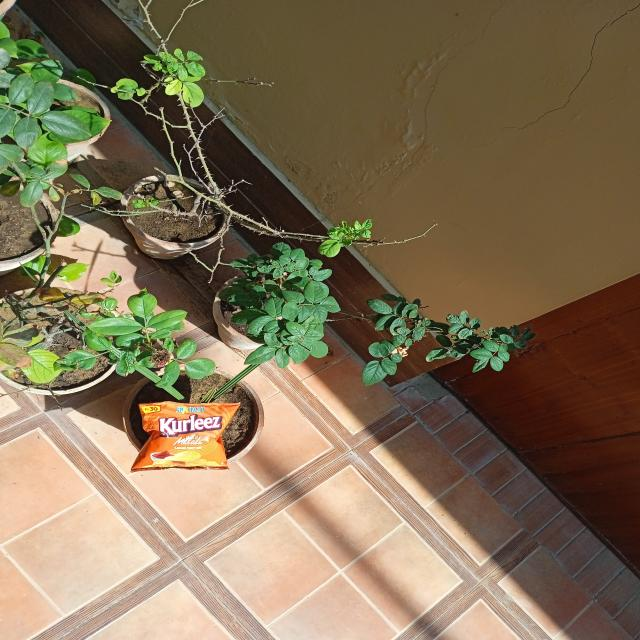Plastic: (127, 397, 240, 475)
